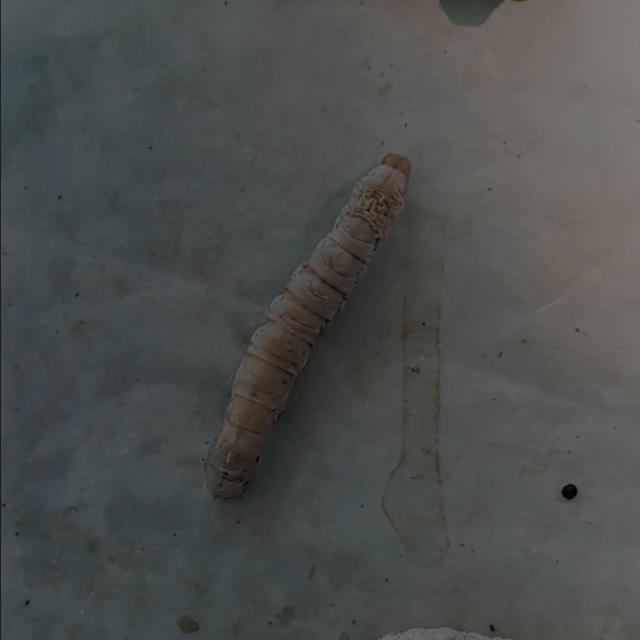Grasserie: (197, 148, 418, 507)
